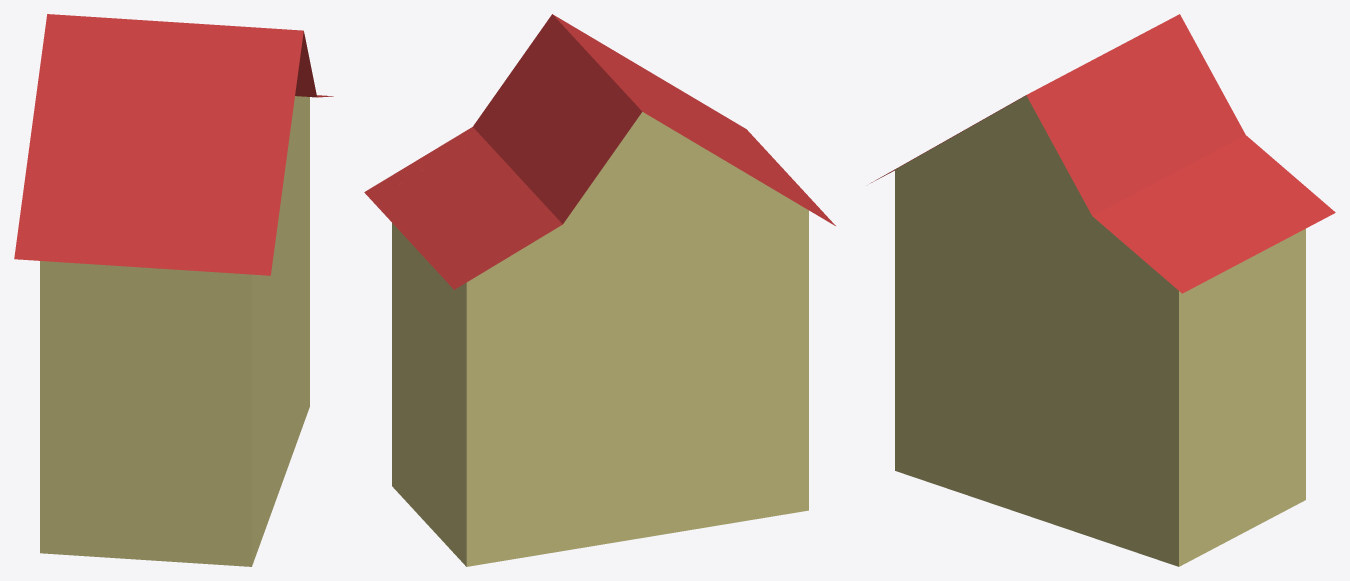
3 renders of one model, left to right at view 1: azimuth 30°, elevation 25°; view 2: azimuth 150°, elevation 25°; view 3: azimuth 270°, elevation 25°, orthographic. The views are drawn at different scales.
Bounding box in the file's own units: 10.43 × 11.01 × 11.14.
